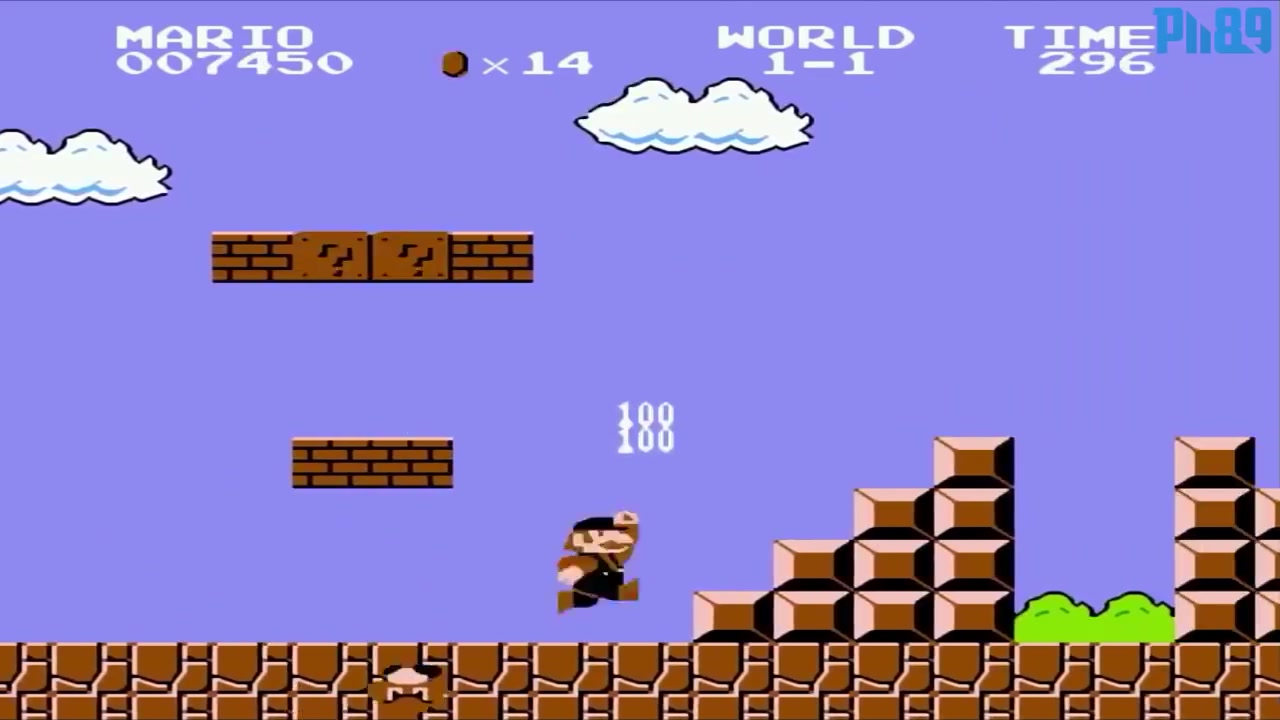mario: (553, 509, 650, 614)
